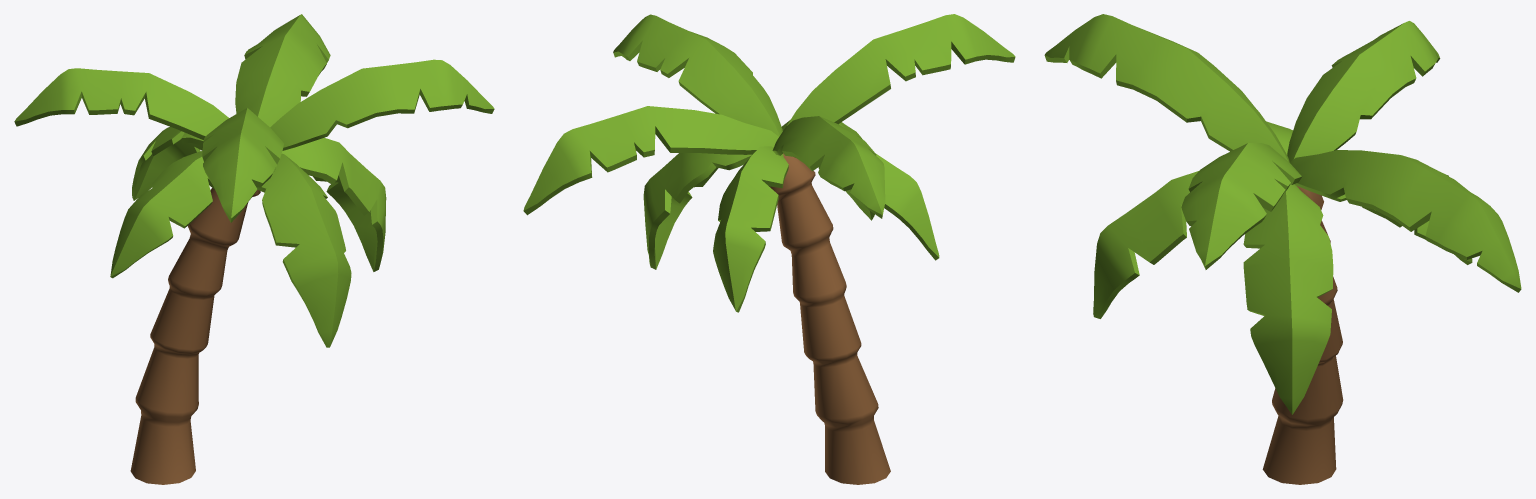
Rendered from Palm_Tree_3.glb.
The picture shows the model from 3 angles, left to right: view 1: azimuth 30°, elevation 25°; view 2: azimuth 150°, elevation 25°; view 3: azimuth 270°, elevation 25°; orthographic projection. The views are drawn at different scales.
Parts seen in each view (by area): view 1: Environment_PalmTree_2; view 2: Environment_PalmTree_2; view 3: Environment_PalmTree_2.
Part boxes in pixels (x1,y1,x2,y2): Environment_PalmTree_2: [14, 14, 494, 484]; Environment_PalmTree_2: [523, 14, 1015, 484]; Environment_PalmTree_2: [1044, 14, 1521, 484].
Bounding box in the file's own units: 2.64 × 2.69 × 2.58.
1 material, 1 textured.
